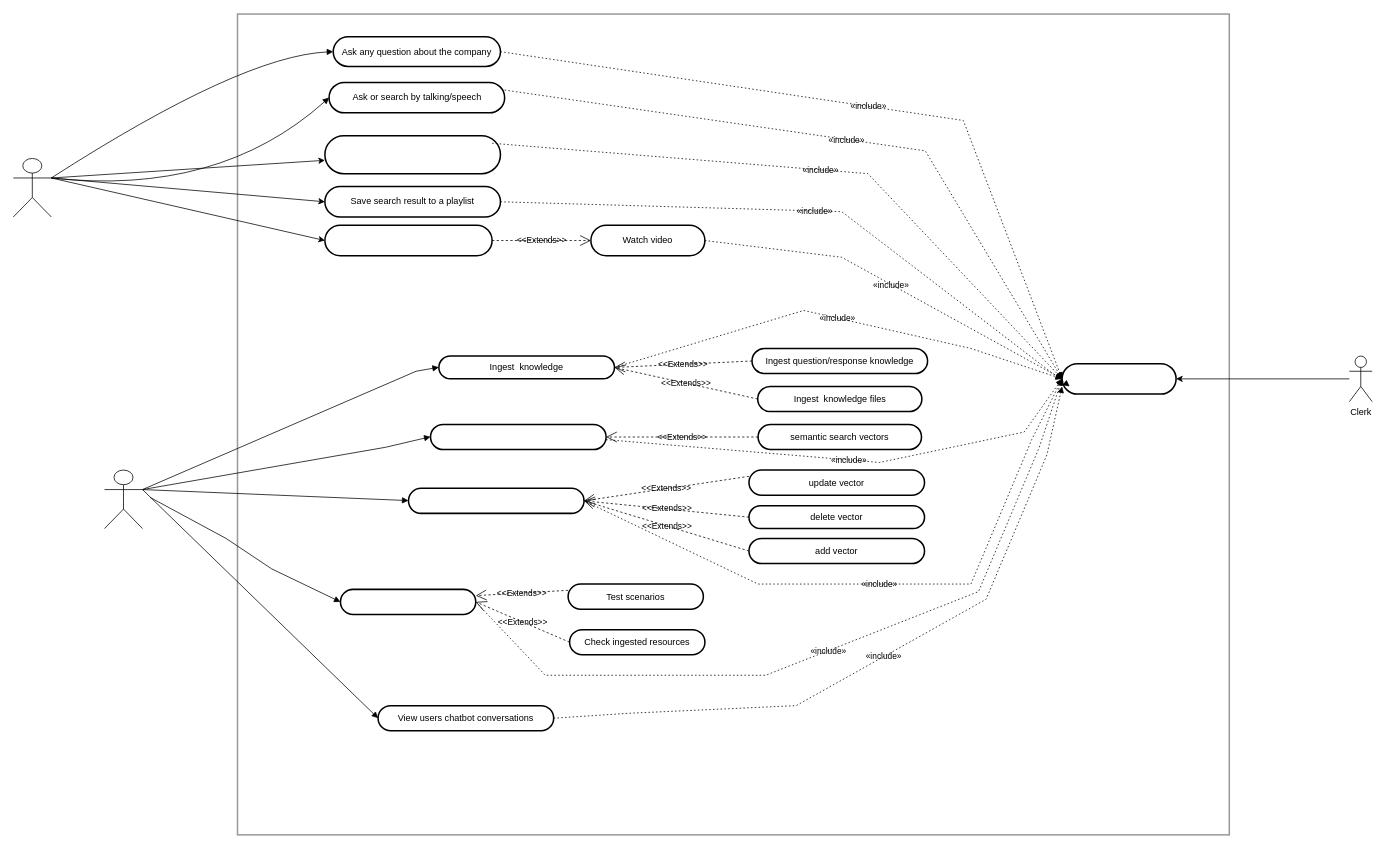
Some shapes in this 1385 by 848 pixel diagram are drawn without their labels. The box of each missing label's shape, as (x1, y1, x2, y2) in pixels:
Admin: (104, 469, 142, 529)
Authenticate: (1061, 363, 1176, 394)
Browse knowledge vectors: (429, 423, 606, 450)
Manage vector: (407, 487, 584, 514)
Search videos by natural language: (324, 135, 501, 174)
Test chatbot conversation: (339, 588, 476, 615)
User: (13, 158, 51, 217)
View ai video search result: (324, 224, 492, 256)
